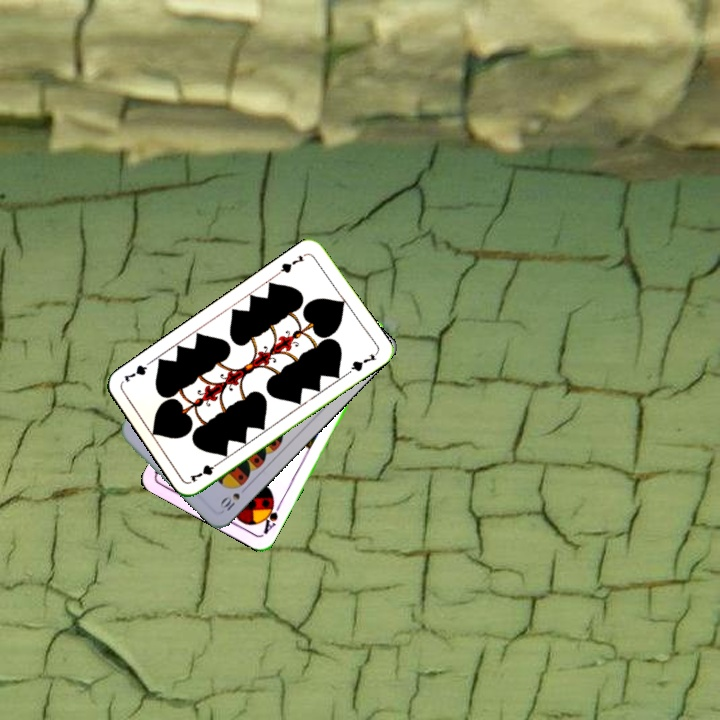G7: (186, 457, 224, 485), (273, 251, 307, 277)
S10: (216, 482, 250, 514)
SA: (257, 496, 284, 537)
